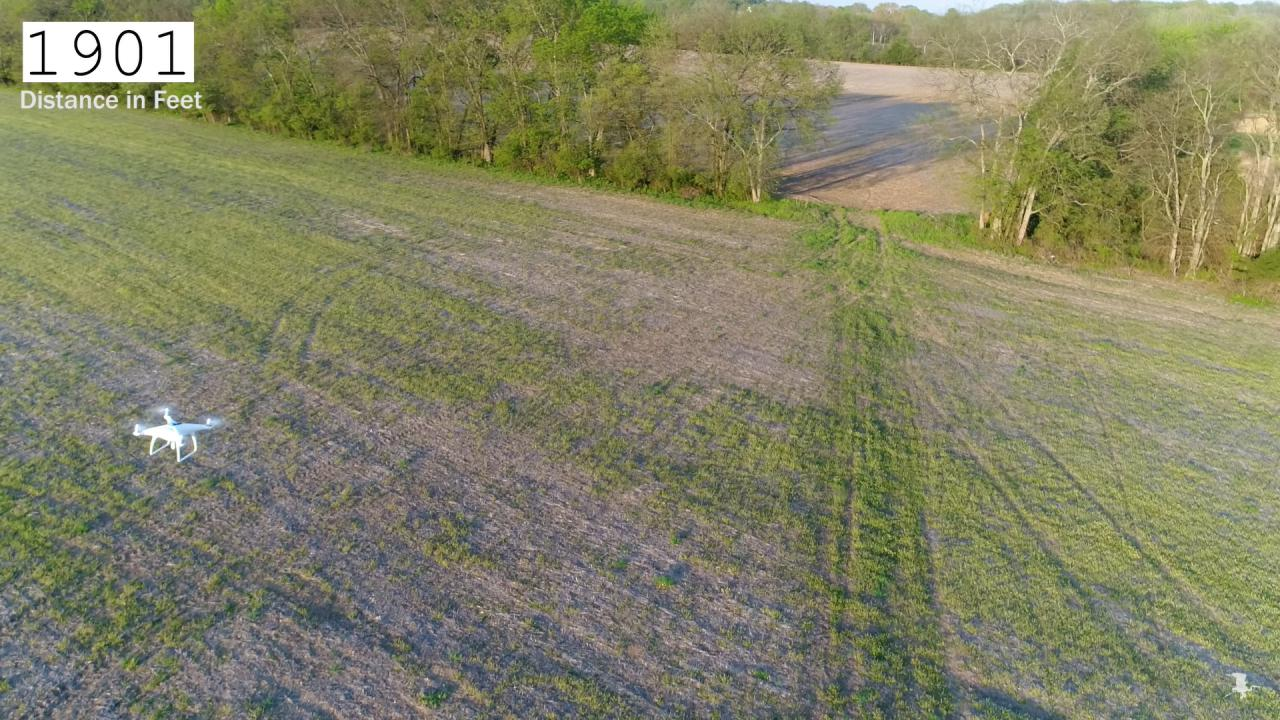Drone: (115, 390, 239, 478)
